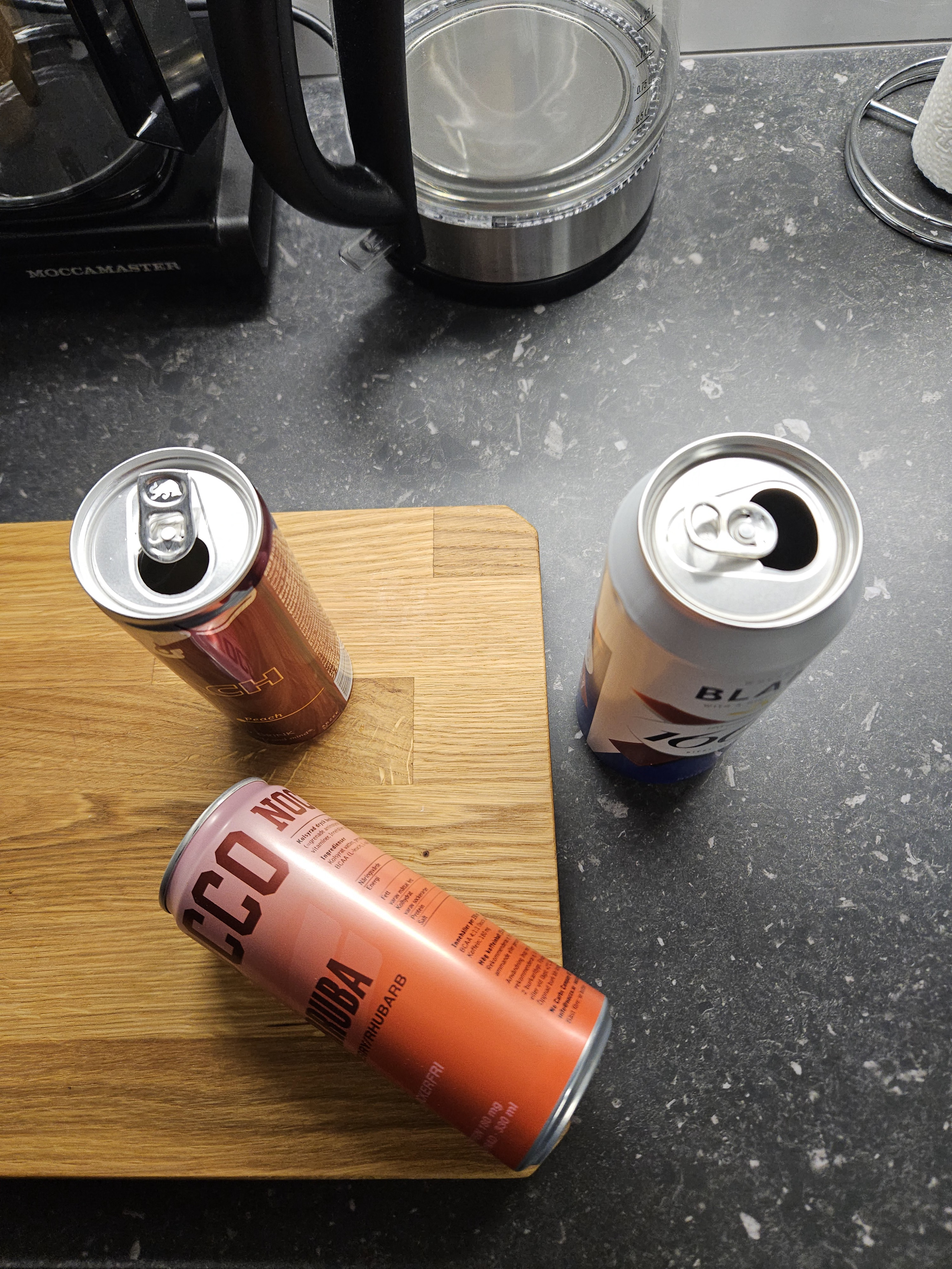Pantburk: (142, 769, 620, 1182), (570, 429, 874, 804), (56, 444, 356, 749)
